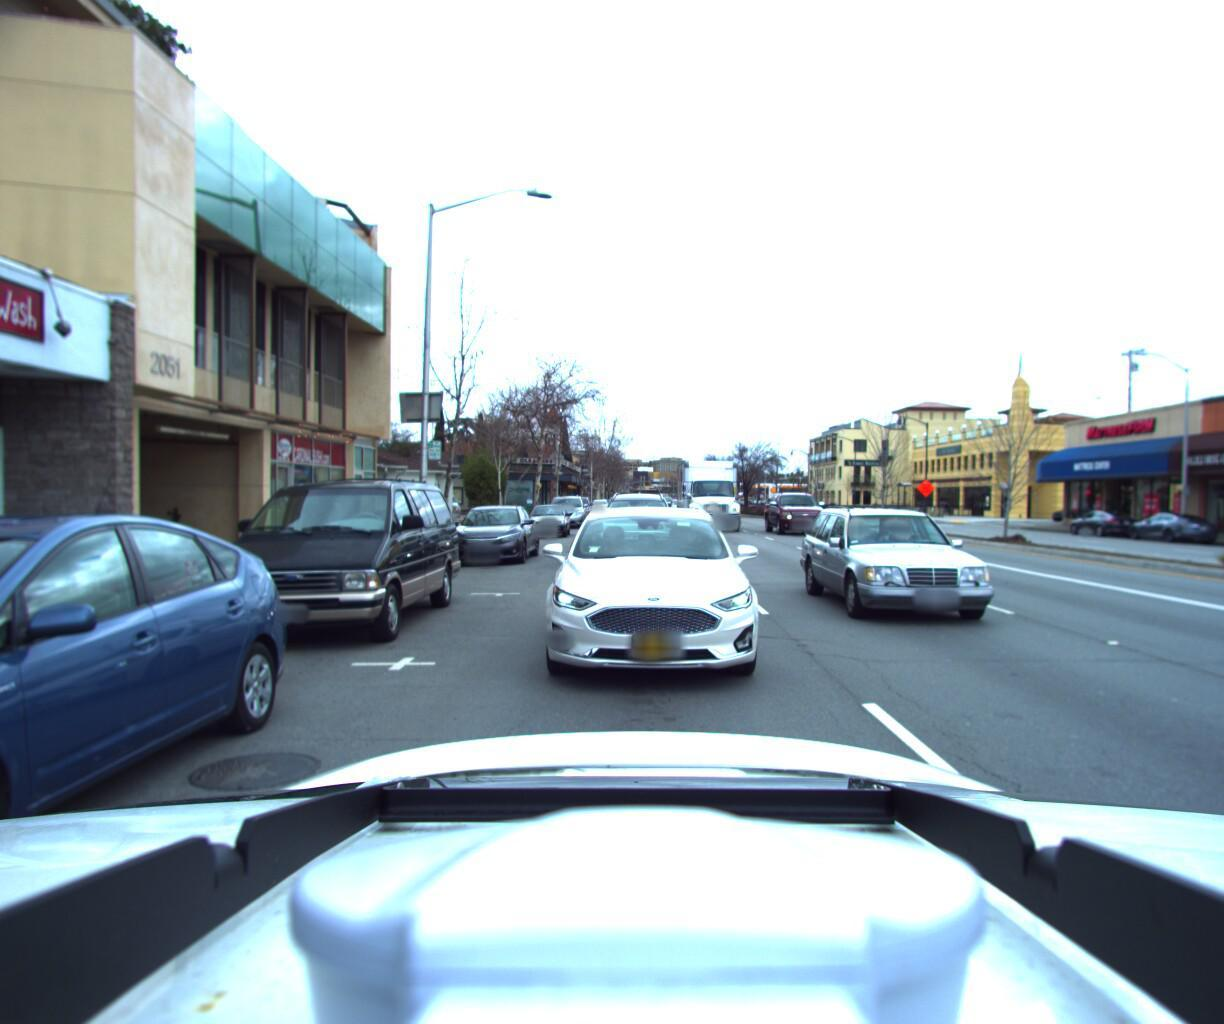car: (188, 468, 469, 666), (521, 493, 763, 707), (781, 500, 1008, 637), (593, 494, 679, 579), (445, 508, 540, 576), (1125, 517, 1224, 551), (759, 496, 830, 543), (1070, 516, 1142, 545), (525, 508, 571, 546), (547, 500, 588, 536)
truck: (669, 462, 750, 543)
